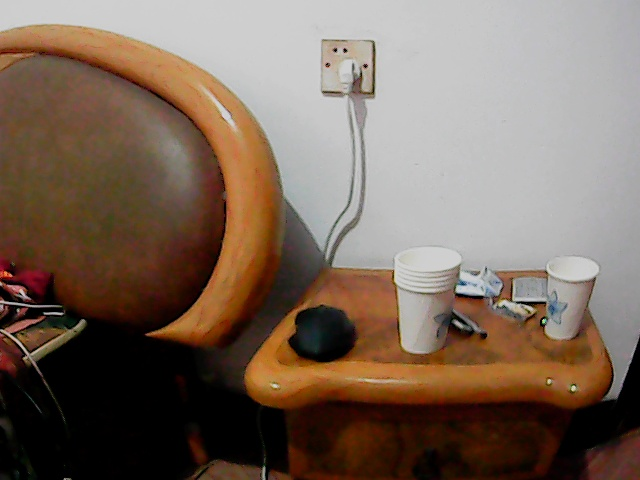cup: (393, 244, 456, 353)
mouse: (288, 303, 355, 359)
